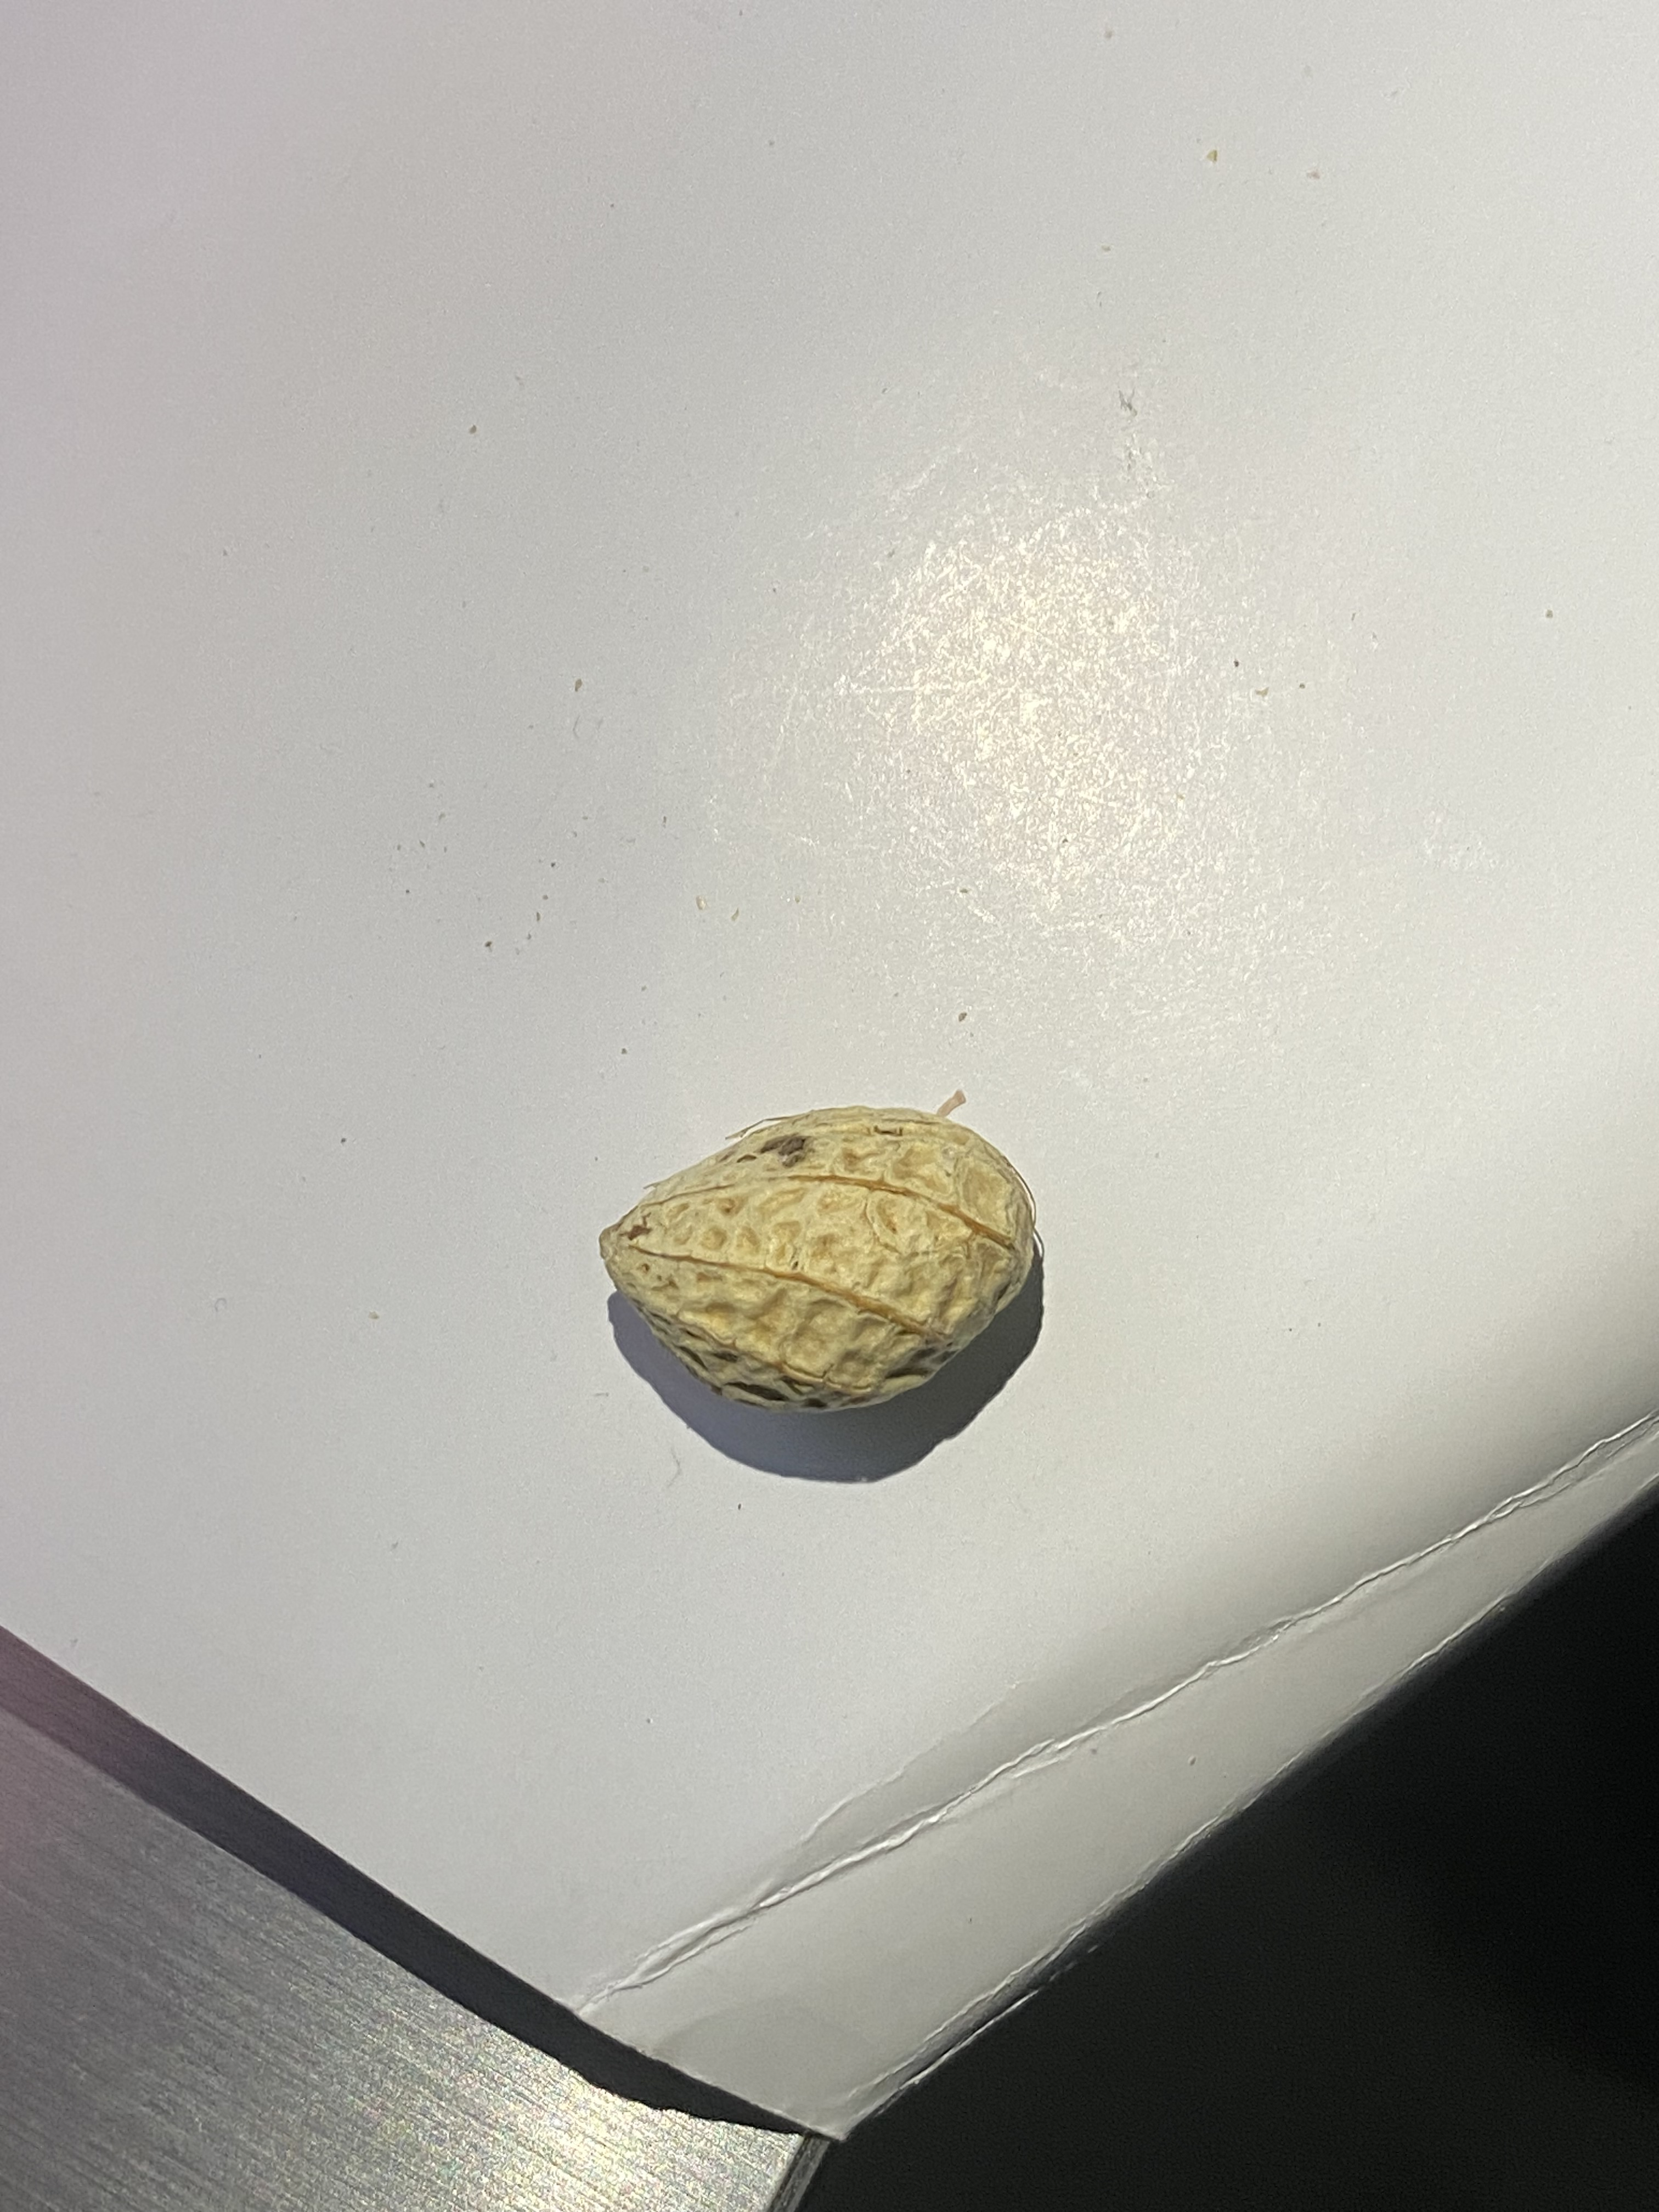kacang1: (552, 1061, 1065, 1435)
